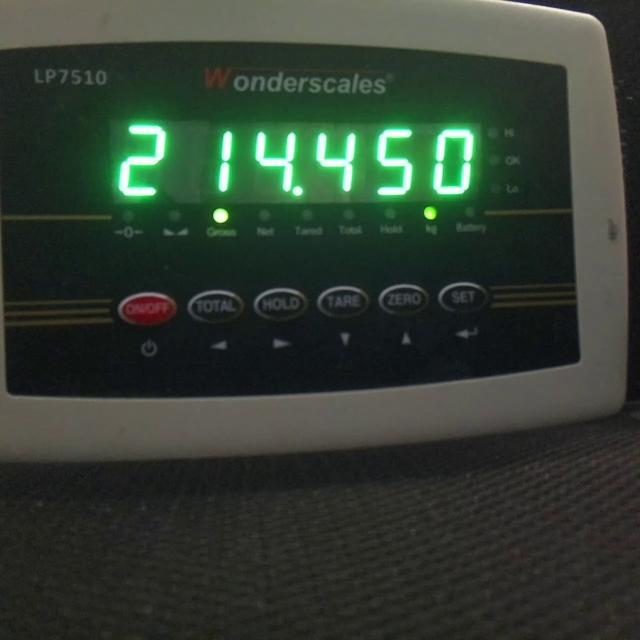.: (292, 186, 303, 196)
0: (433, 128, 474, 195)
1: (218, 131, 232, 192)
2: (117, 117, 167, 205)
4: (252, 114, 295, 215), (316, 131, 356, 192)
5: (374, 128, 414, 195)
